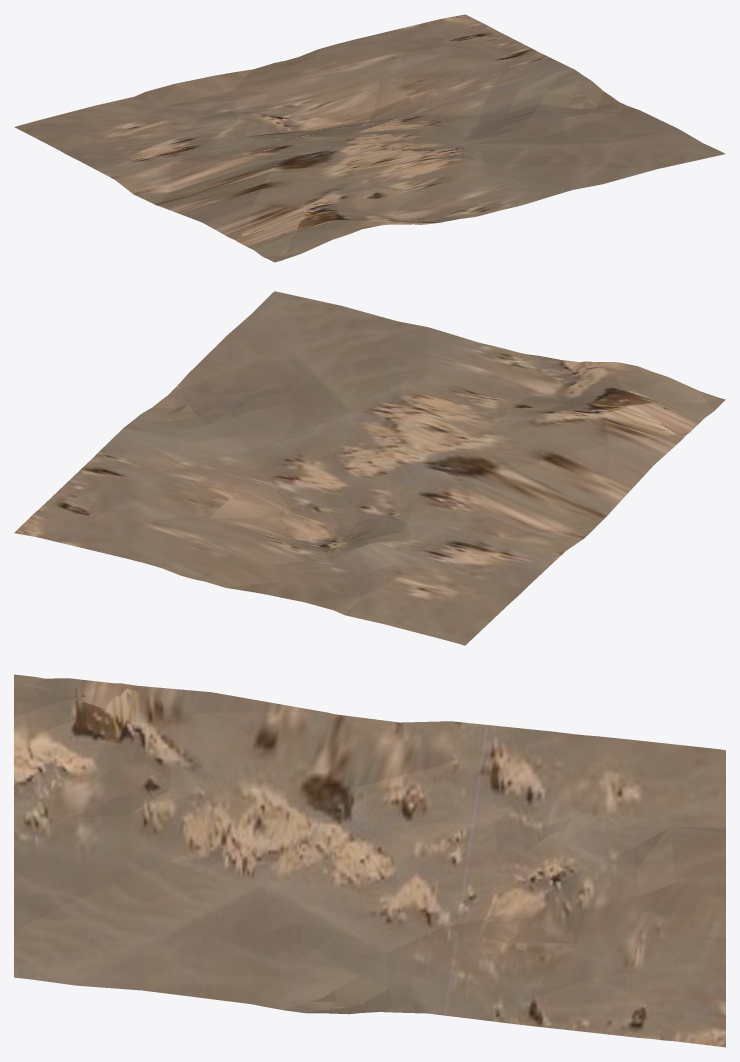
3 views of the same model, one above another, from view 1: azimuth 30°, elevation 25°; view 2: azimuth 150°, elevation 25°; view 3: azimuth 270°, elevation 25° (orthographic). The views are drawn at different scales.
Size of the model in its own units: 2.09 by 0.3 by 2.09.
3 materials, 3 textured.
